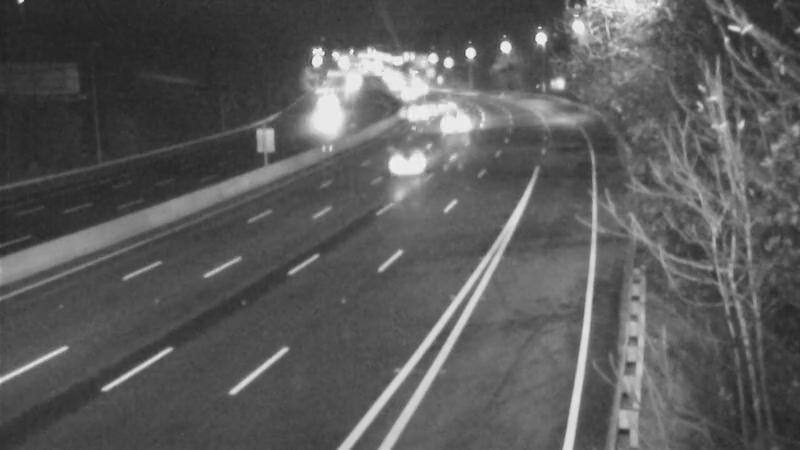vehicle: (372, 123, 452, 203), (417, 81, 467, 131), (389, 87, 439, 137), (429, 101, 479, 151), (301, 86, 351, 136)
